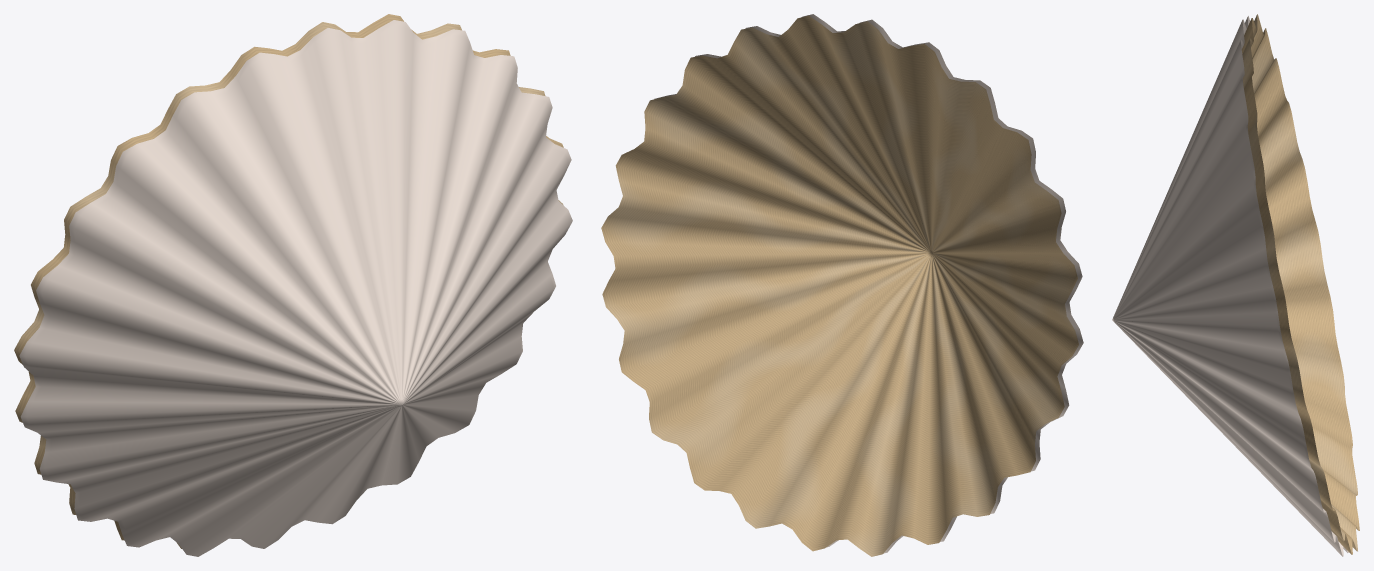
File: limpet.glb
3 views of the same model, side by side, from view 1: azimuth 30°, elevation 25°; view 2: azimuth 150°, elevation 25°; view 3: azimuth 270°, elevation 25° (orthographic). The views are drawn at different scales.
Parts seen in each view (by area): view 1: limpet.001; view 2: limpet.001; view 3: limpet.001.
Part boxes in pixels (x1,y1,x2,y2): limpet.001: [14, 14, 572, 556]; limpet.001: [601, 14, 1083, 556]; limpet.001: [1112, 14, 1359, 556].
Size of the model in its own units: 2.38 by 2.34 by 1.06.
2 materials, 1 textured.
